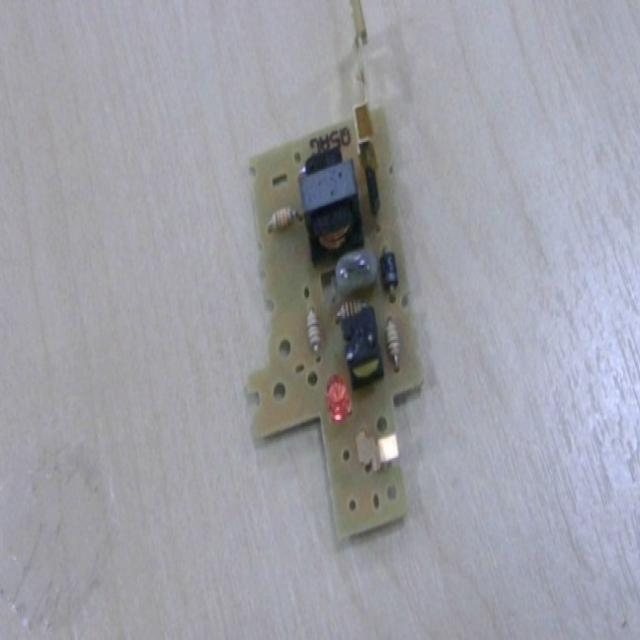019: (342, 304, 384, 391)
223: (335, 242, 377, 290)
DIODE: (379, 241, 401, 308)
LED: (325, 372, 355, 431)
R1: (304, 302, 324, 364)
R2: (335, 296, 368, 323)
R3: (384, 314, 404, 372)
R4: (266, 204, 305, 238)
TCE: (300, 149, 364, 268)
TRANSISTOR: (360, 158, 384, 233)
